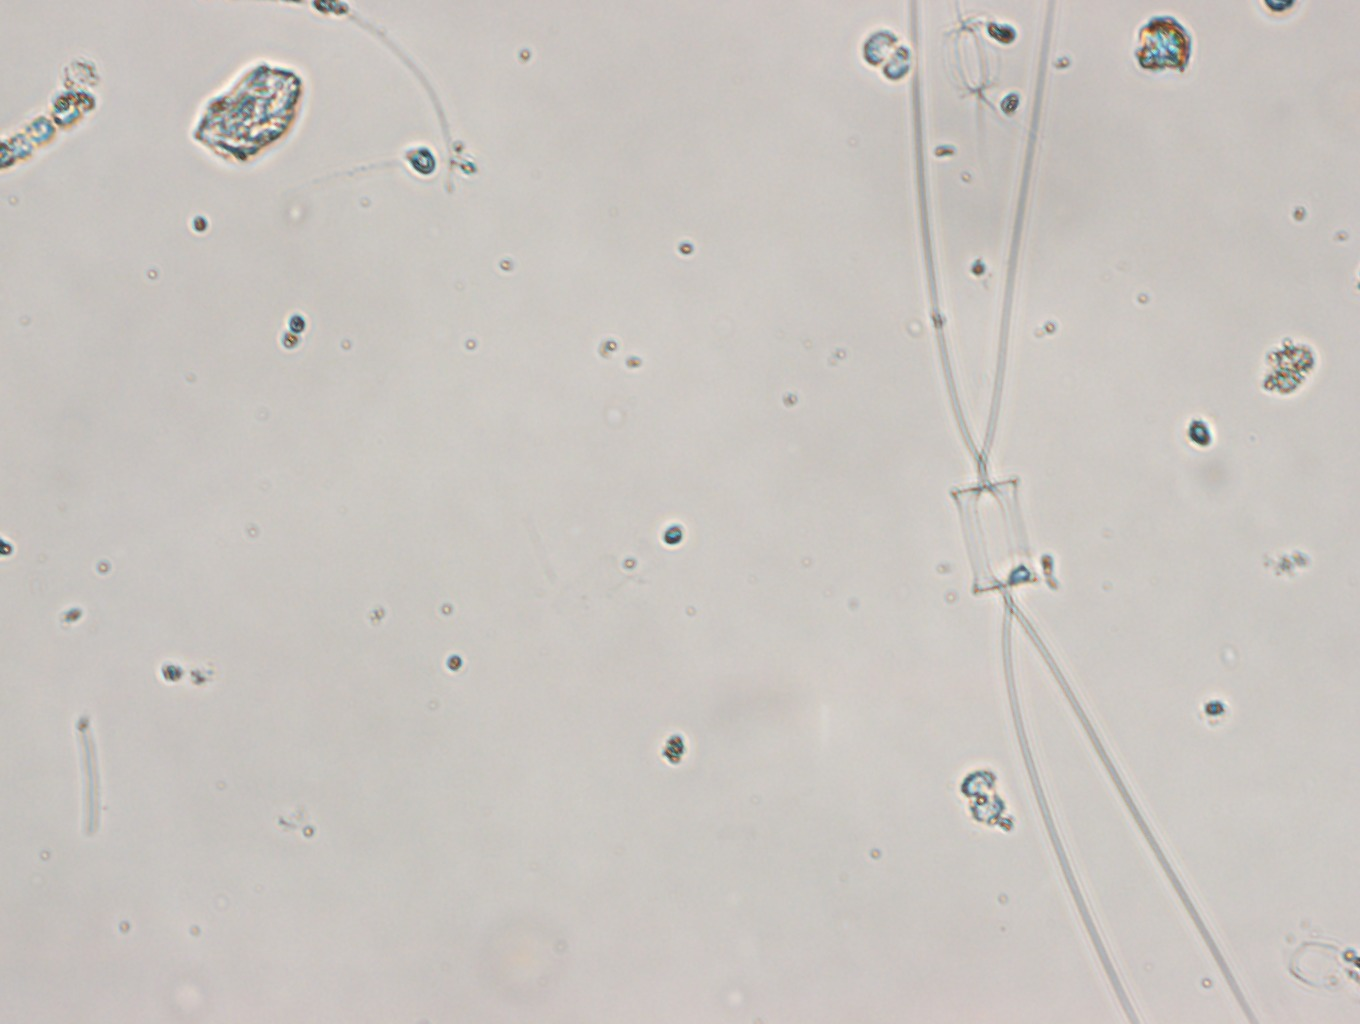chaetoceros: (910, 1, 1264, 1024)
